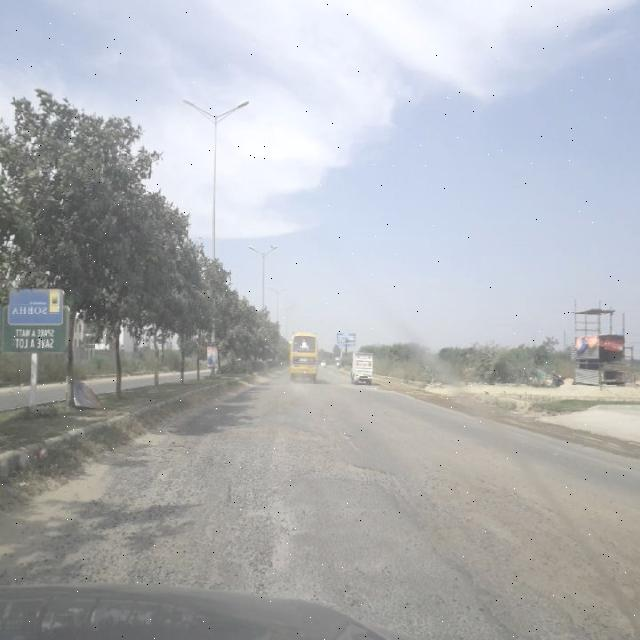D40: (65, 430, 299, 599), (405, 460, 639, 628), (169, 417, 335, 452), (290, 456, 404, 487), (213, 467, 260, 511)
